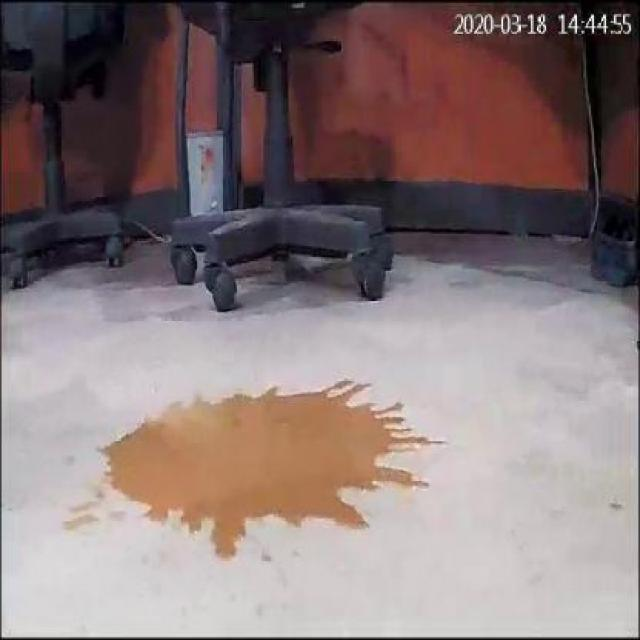spill: (102, 375, 442, 560)
